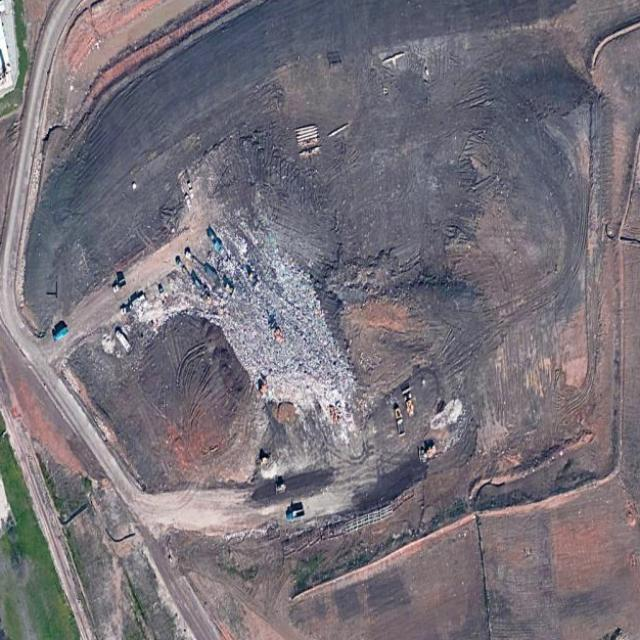dump_site: (176, 171, 377, 498), (118, 260, 193, 349)
